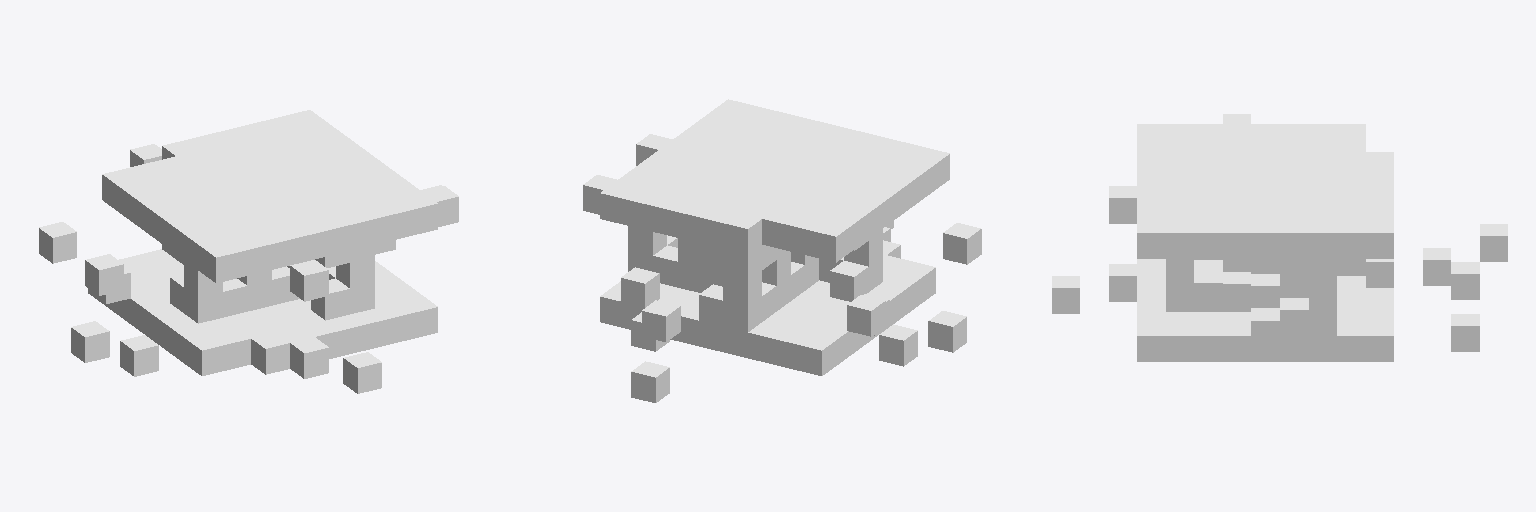
The model's file is ml_tensorcapture.obj.
3 views of the same model, side by side, from view 1: azimuth 30°, elevation 25°; view 2: azimuth 150°, elevation 25°; view 3: azimuth 270°, elevation 25° (orthographic).
Size of the model in its own units: 15 by 6 by 16.